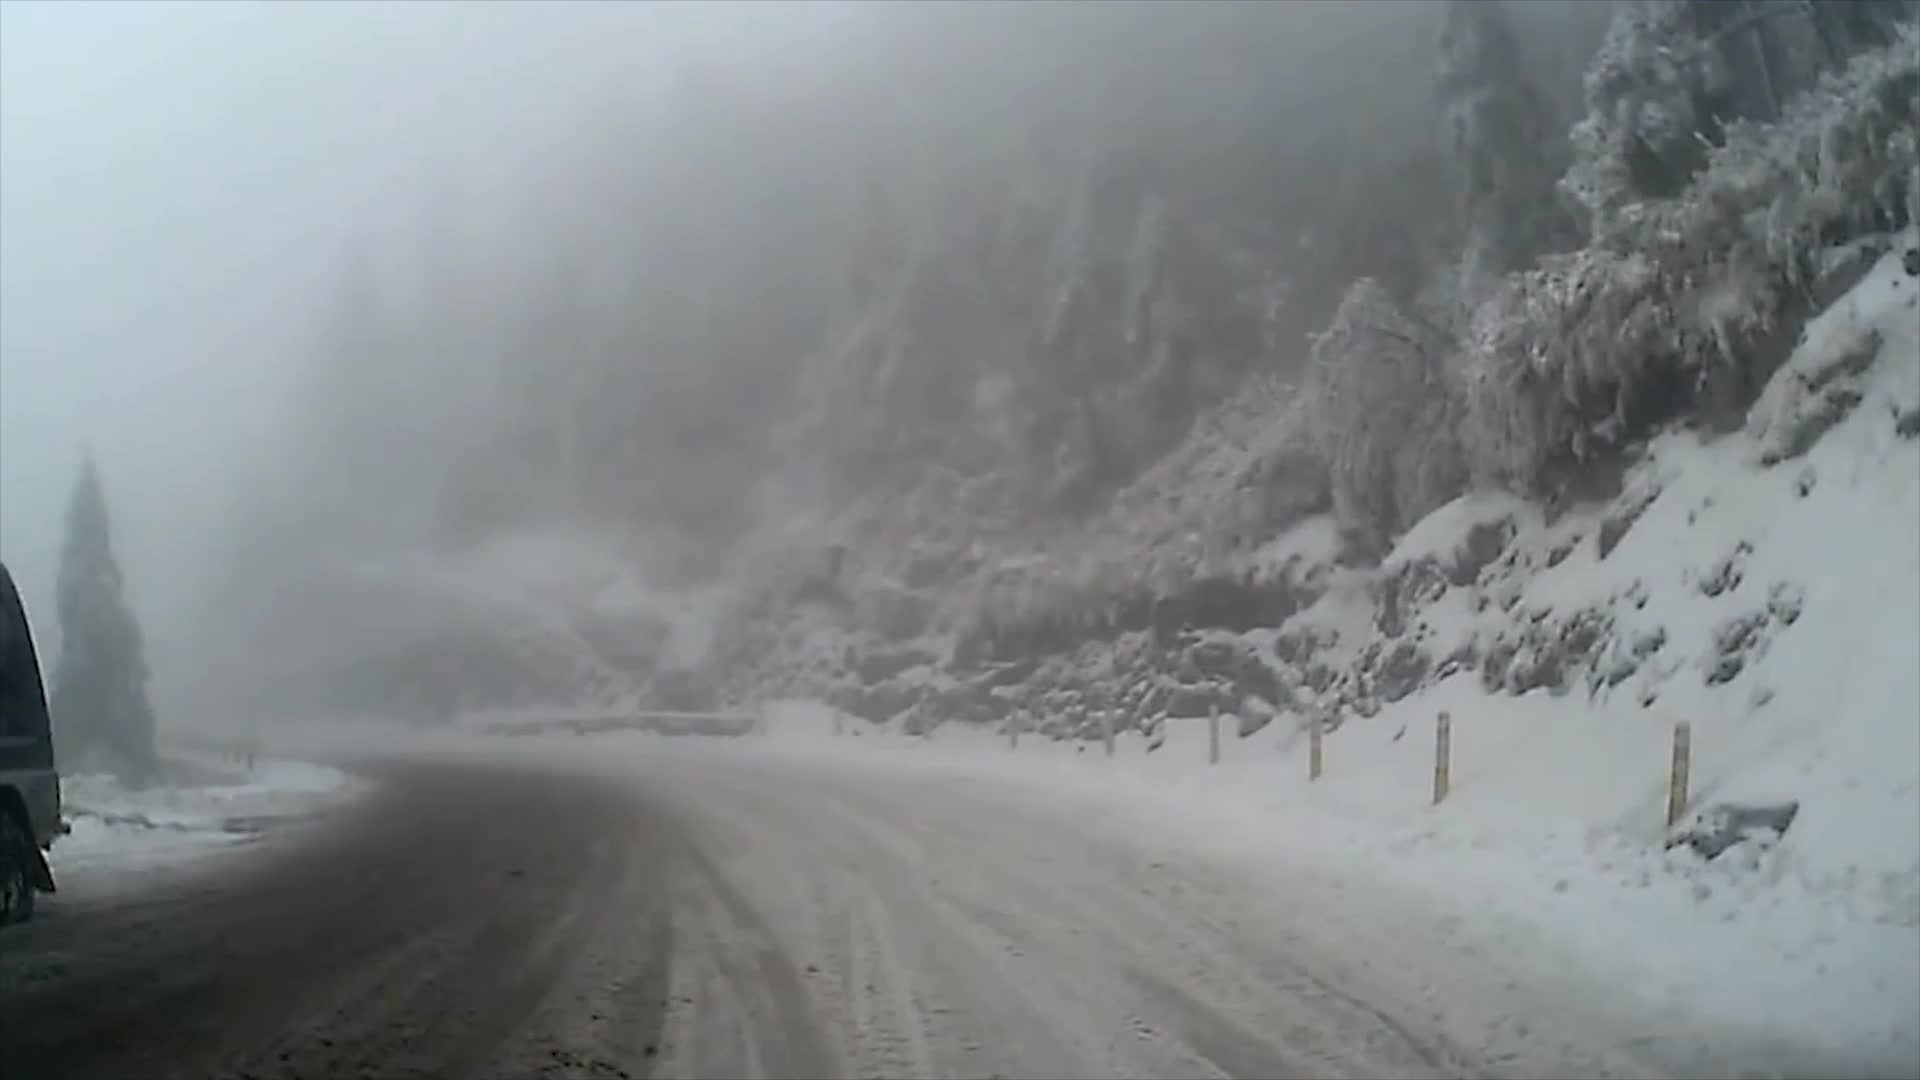vehicle: (0, 560, 73, 945)
